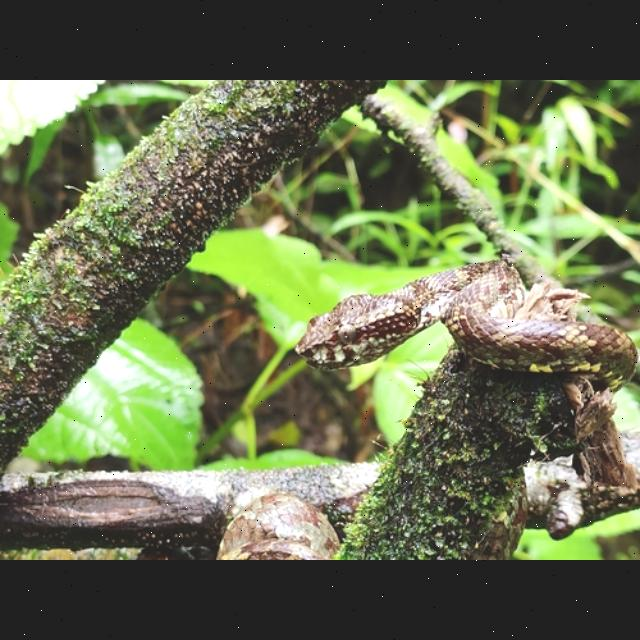snake: (282, 273, 640, 409)
